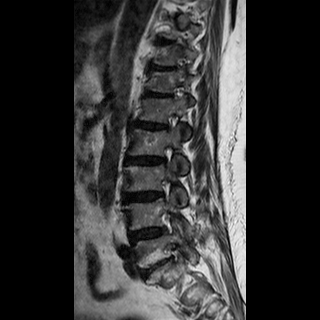LFS0: (153, 173, 175, 205), (154, 139, 176, 171), (156, 206, 177, 238)
